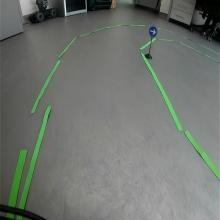right: (149, 25, 157, 38)
